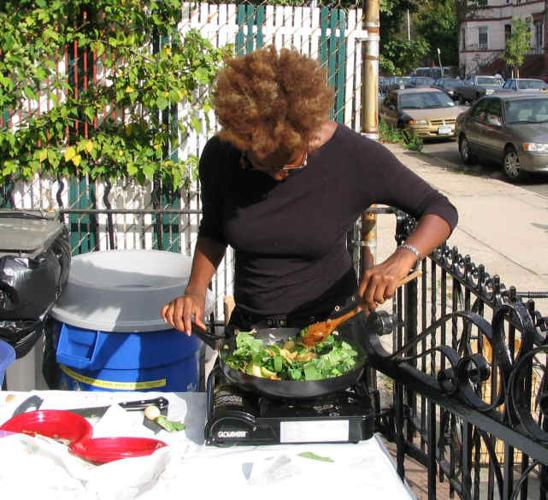person: (162, 46, 459, 359)
